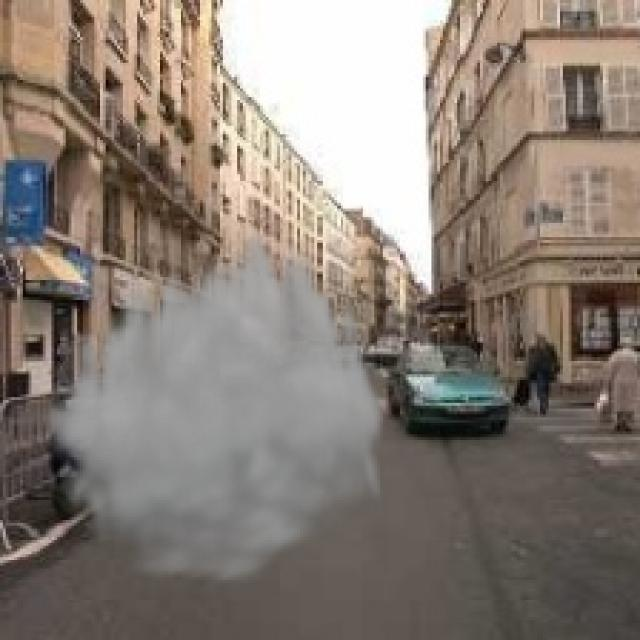Smoke: (40, 217, 389, 592)
